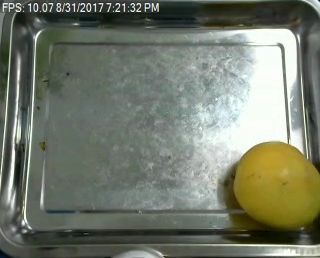Mango: (234, 140, 320, 229)
